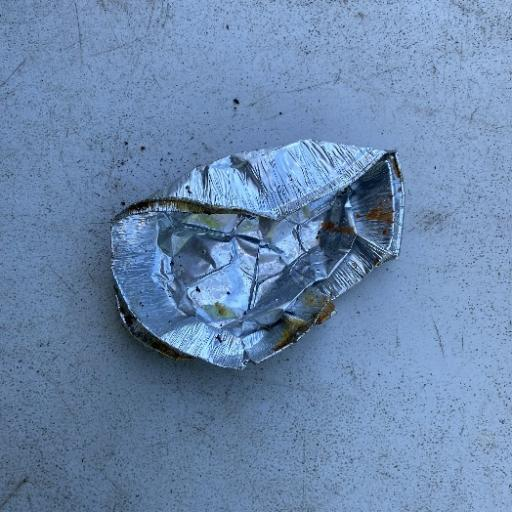Metal: (108, 137, 406, 371)
